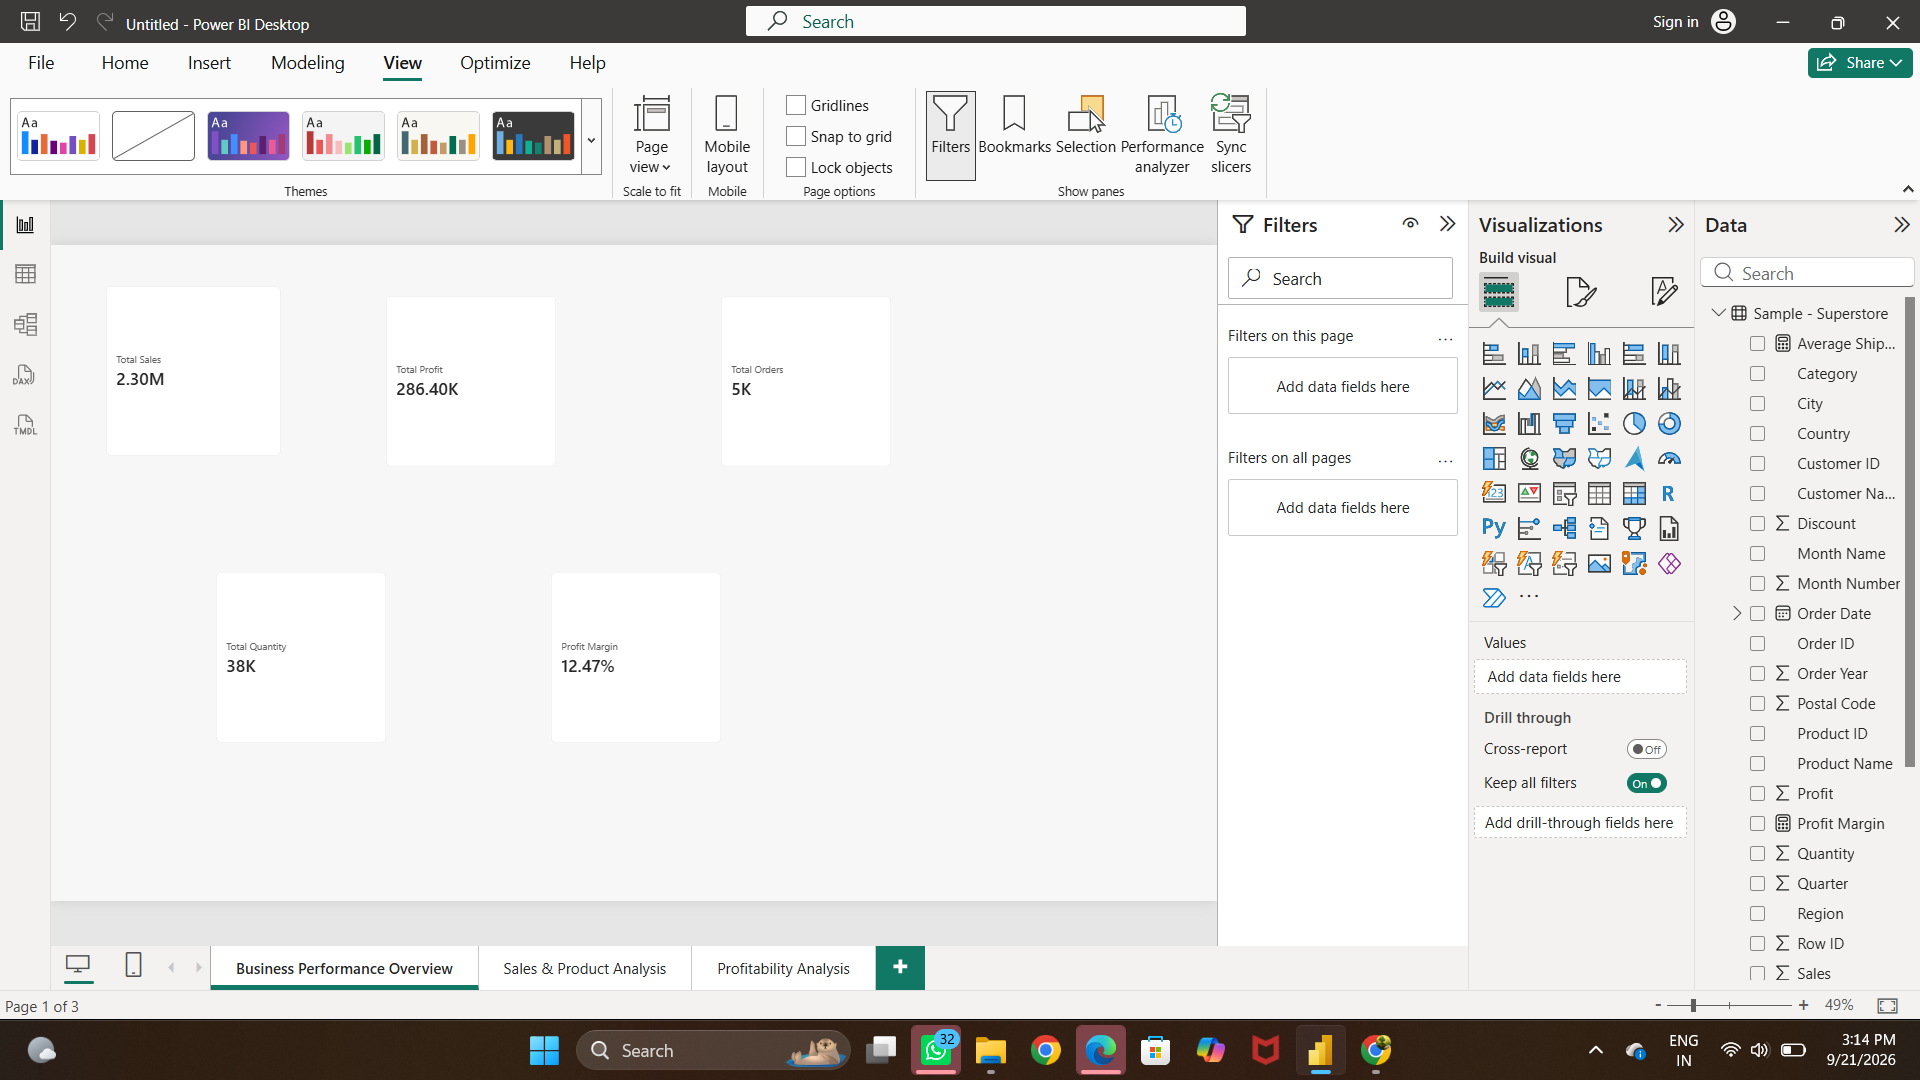

This screenshot's page, from the dashboard's own definition file:
{"tool":"powerbi","page":{"name":"Business Performance Overview","canvas":[1920,1080],"ordinal":0},"visuals":[{"type":"cardVisual","fields":{"Data":["Sample - Superstore.Total Sales"]},"box":[90.6,67.9,288.2,279.9],"z":0},{"type":"cardVisual","fields":{"Data":["Sample - Superstore.Total Profit"]},"box":[551.6,84.4,280,280],"z":1000},{"type":"cardVisual","fields":{"Data":["Sample - Superstore.Total Orders"]},"box":[1103.3,84.4,280,280],"z":2000},{"type":"cardVisual","fields":{"Data":["Sample - Superstore.Total Quantity"]},"box":[271.7,539.3,280,280],"z":3000},{"type":"cardVisual","fields":{"Data":["Sample - Superstore.Profit Margin"]},"box":[823.3,539.3,280,280],"z":4000}]}

Visuals, with their boxes on the page's 1920x1080 design canvas (x1, y1, x2, y2). These are canvas units, not pixel positions in the 1920x1080 screenshot, which may show the page scaled, cropped or inside an application window:
cardVisual - Sample - Superstore.Total Sales: [left=91, top=68, right=379, bottom=348]
cardVisual - Sample - Superstore.Total Profit: [left=552, top=84, right=832, bottom=364]
cardVisual - Sample - Superstore.Total Orders: [left=1103, top=84, right=1383, bottom=364]
cardVisual - Sample - Superstore.Total Quantity: [left=272, top=539, right=552, bottom=819]
cardVisual - Sample - Superstore.Profit Margin: [left=823, top=539, right=1103, bottom=819]
